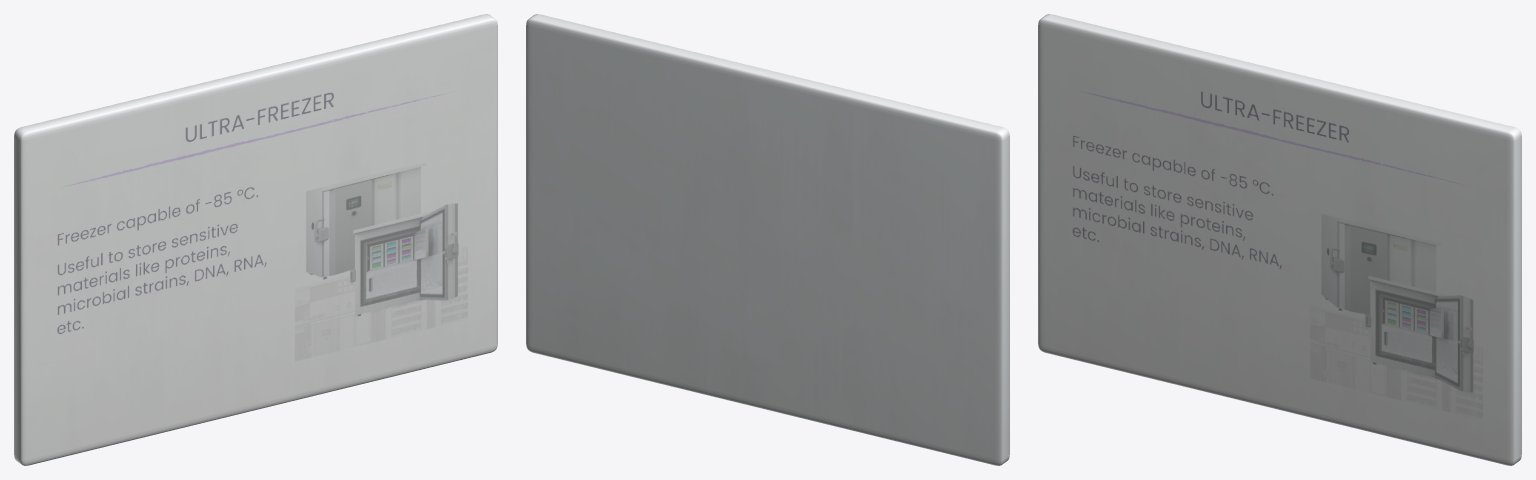
Rendered from Cartel_Ultracongelador.glb.
3 views of the same model, side by side, from view 1: azimuth 30°, elevation 25°; view 2: azimuth 150°, elevation 25°; view 3: azimuth 330°, elevation 25° (orthographic).
Parts seen in each view (by area): view 1: Box011; view 2: Box011; view 3: Box011.
Boxes of the visible parts, bbox=[...] form: Box011: bbox=[14, 14, 497, 465]; Box011: bbox=[526, 14, 1009, 465]; Box011: bbox=[1038, 14, 1521, 465].
Size of the model in its own units: 1.1 by 0.7335 by 0.0348.
Materials: 1 (1 with a texture image).
